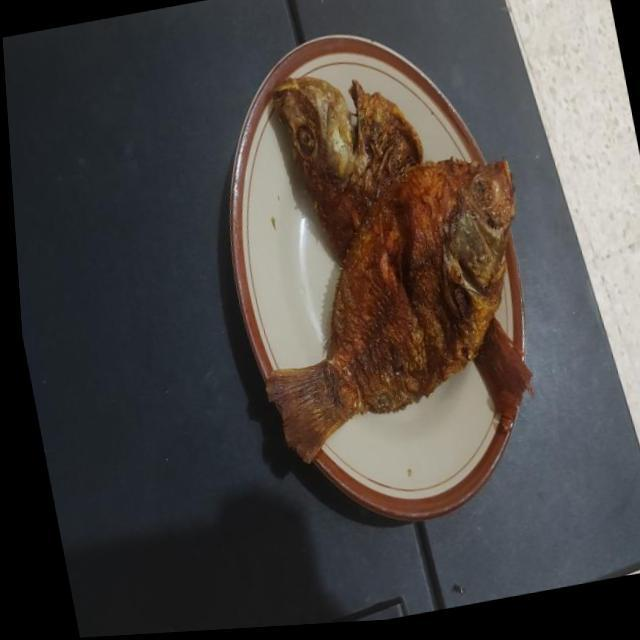ikan_mujair: (272, 78, 532, 434), (266, 158, 515, 461)
